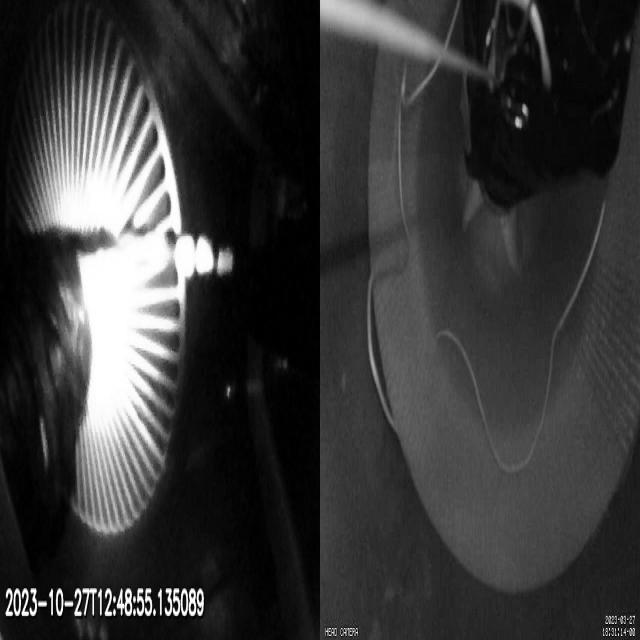white-dots: (174, 232, 234, 282)
